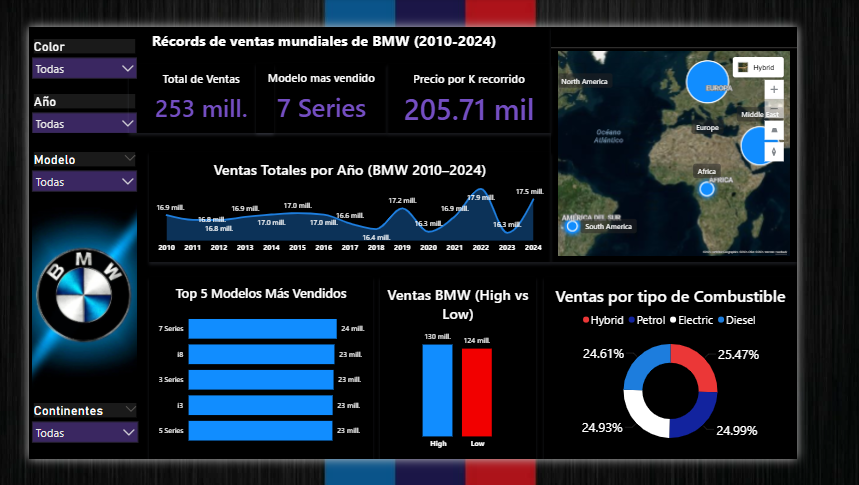

This screenshot's page, from the dashboard's own definition file:
{"tool":"powerbi","page":{"name":"BMW","canvas":[1280,720],"ordinal":0},"visuals":[{"type":"image","box":[0,186.7,185,458.3],"z":1000},{"type":"textbox","box":[200,0,658,58],"z":2000},{"type":"lineChart","title":"Ventas Totales por Año (BMW 2010–2024)","fields":{"Y":["Medidas.Total de ventas"],"Category":["BMW ventas 2010-2024.Año"]},"box":[199.8,208.7,670,183.7],"z":3000},{"type":"azureMap","title":"Ventas Totales por Continente","fields":{"Category":["BMW ventas 2010-2024.Continente"],"Size":["Medidas.Total de ventas"]},"box":[870,0,410,392],"z":4000},{"type":"barChart","title":"Top 5 Modelos Más Vendidos ","fields":{"Y":["Medidas.Total de ventas"],"Category":["BMW ventas 2010-2024.Modelo"]},"box":[199.8,417.3,373.2,302.7],"z":5000},{"type":"donutChart","title":"Ventas por tipo de Combustible","fields":{"Category":["BMW ventas 2010-2024.Tipo de combustible"],"Y":["Medidas.Total de ventas"]},"box":[858.3,416.7,421.7,303.3],"z":6000},{"type":"clusteredColumnChart","title":"Ventas BMW (High vs Low)","fields":{"Category":["BMW ventas 2010-2024.Clasificación de ventas"],"Y":["Medidas.Total de ventas"]},"box":[584.8,417.3,260.1,302.7],"z":7000},{"type":"slicer","fields":{"Values":["BMW ventas 2010-2024.Año"]},"box":[0,111.7,185,65],"z":8000},{"type":"slicer","fields":{"Values":["BMW ventas 2010-2024.Continente"]},"box":[0,626.7,186.7,93.3],"z":9000},{"type":"card","title":"Total de Ventas","fields":{"Values":["Medidas.Total de ventas"]},"box":[166,61.7,241,114.6],"z":10000},{"type":"slicer","fields":{"Values":["BMW ventas 2010-2024.Modelo"]},"box":[0,208.3,185,66.7],"z":11000},{"type":"card","title":"Modelo mas vendido","fields":{"Values":["Medidas.Modelo mas vendido2"]},"box":[379,60.8,218.1,116.2],"z":12000},{"type":"card","title":"Precio por K recorrido","fields":{"Values":["Sum(BMW ventas 2010-2024.Precio por K recorrido)"]},"box":[596.7,61.7,273.3,115],"z":13000},{"type":"slicer","fields":{"Values":["BMW ventas 2010-2024.Color"]},"box":[0,20,185,75],"z":14000}]}

Visuals, with their boxes in screenshot pixels (x1, y1, x2, y2), scaled from the page's 1280x720 canvas onto the 859x485 screenshot:
image: 0,126,124,434
textbox: 134,0,576,39
"Ventas Totales por Año (BMW 2010–2024)" lineChart: 134,141,584,264
"Ventas Totales por Continente" azureMap: 584,0,858,264
"Top 5 Modelos Más Vendidos " barChart: 134,281,385,484
"Ventas por tipo de Combustible" donutChart: 576,281,858,484
"Ventas BMW (High vs Low)" clusteredColumnChart: 392,281,567,484
slicer - BMW ventas 2010-2024.Año: 0,75,124,119
slicer - BMW ventas 2010-2024.Continente: 0,422,125,484
"Total de Ventas" card: 111,42,273,119
slicer - BMW ventas 2010-2024.Modelo: 0,140,124,185
"Modelo mas vendido" card: 254,41,401,119
"Precio por K recorrido" card: 400,42,584,119
slicer - BMW ventas 2010-2024.Color: 0,13,124,64
